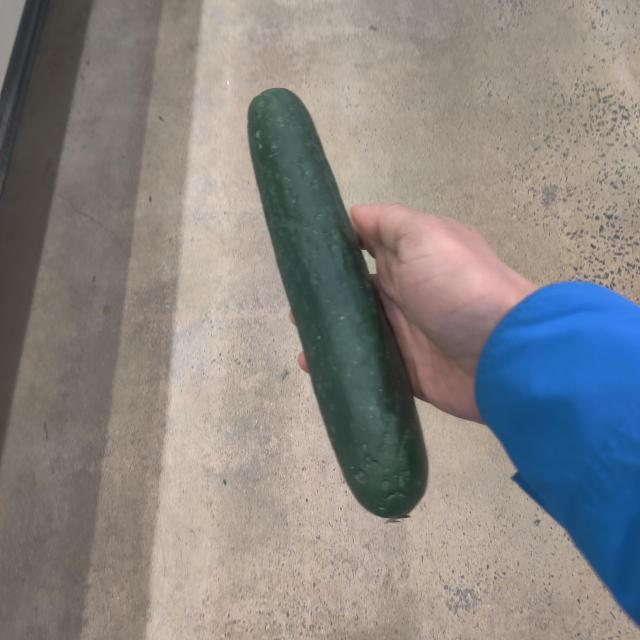Cucumber: (250, 87, 434, 526)
